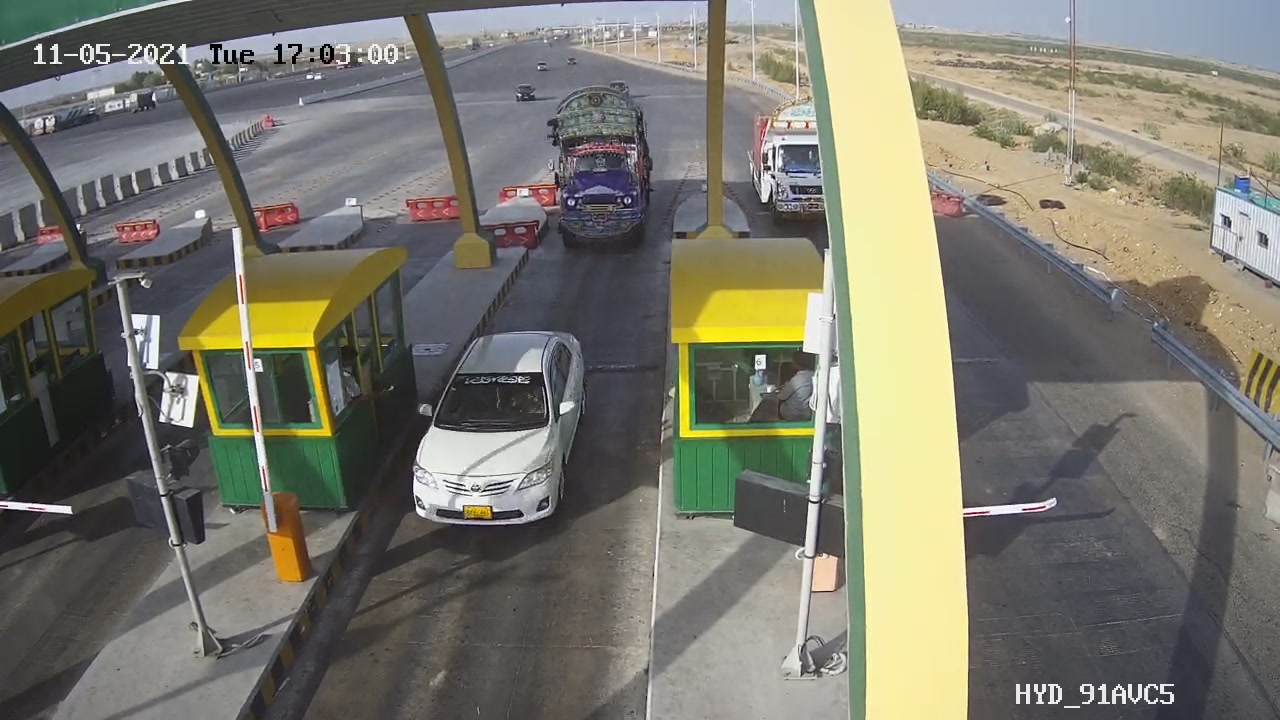F1: (395, 313, 617, 536)
